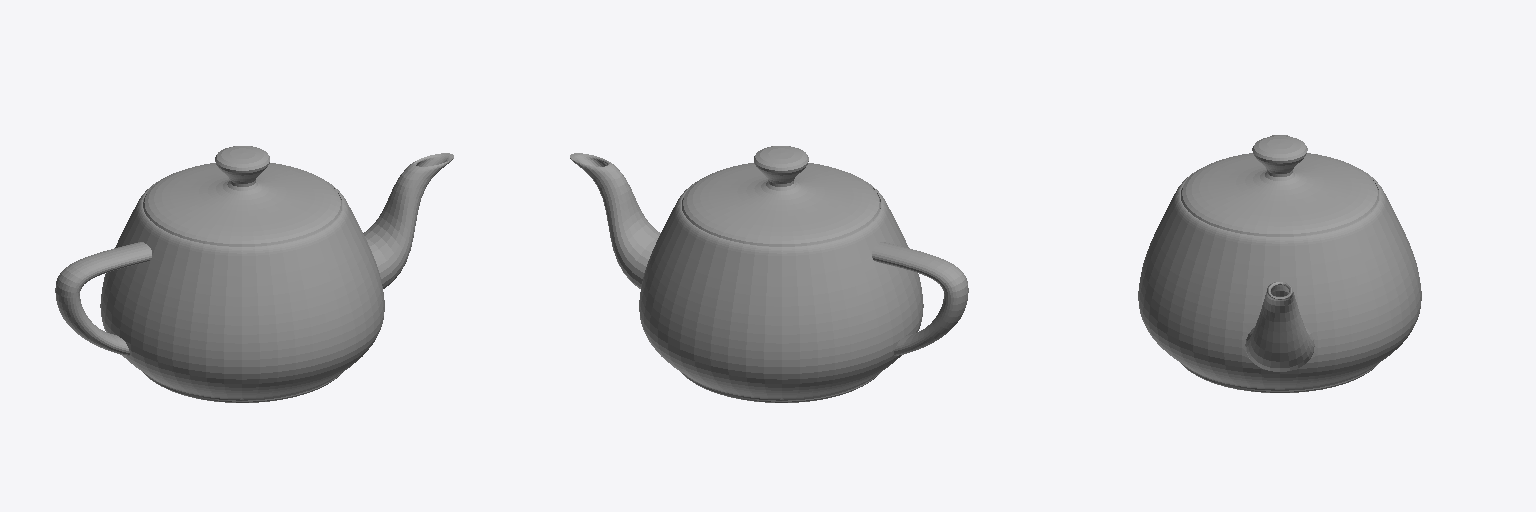
The model's file is teapot.obj.
3 views of the same model, side by side, from view 1: azimuth 30°, elevation 25°; view 2: azimuth 150°, elevation 25°; view 3: azimuth 270°, elevation 25° (orthographic).
Parts seen in each view (by area): view 1: Base, Top; view 2: Base, Top; view 3: Base, Top.
Part boxes in pixels (x1,y1,x2,y2): Base: (55,153,453,402); Top: (143,146,341,246); Base: (570,153,968,402); Top: (682,146,880,246); Base: (1138,135,1421,392); Top: (1181,136,1378,236).
Size of the model in its own units: 154 by 79.01 by 95.86.